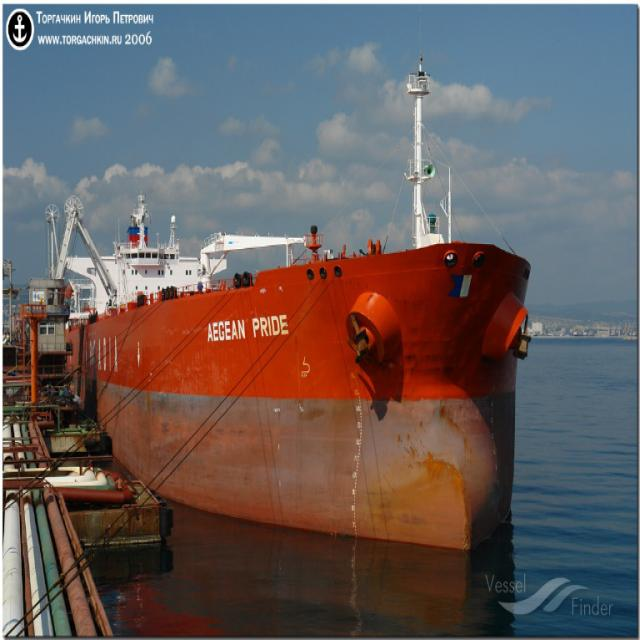OCR: (208, 308, 290, 346)
